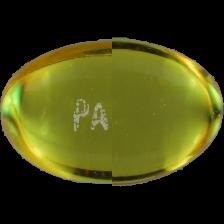69387-119: (0, 0, 224, 224)
